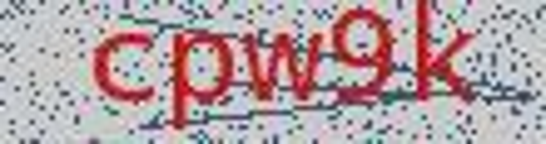9: (329, 3, 396, 115)
c: (85, 22, 160, 107)
k: (407, 1, 482, 120)
p: (165, 29, 237, 133)
w: (238, 25, 325, 112)
